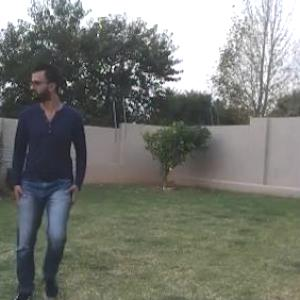follow: (2, 41, 89, 299)
